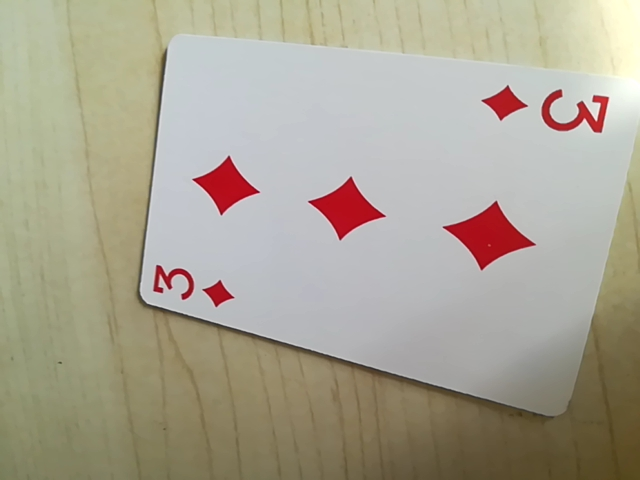fk 3: (479, 82, 605, 138), (146, 257, 241, 313)
